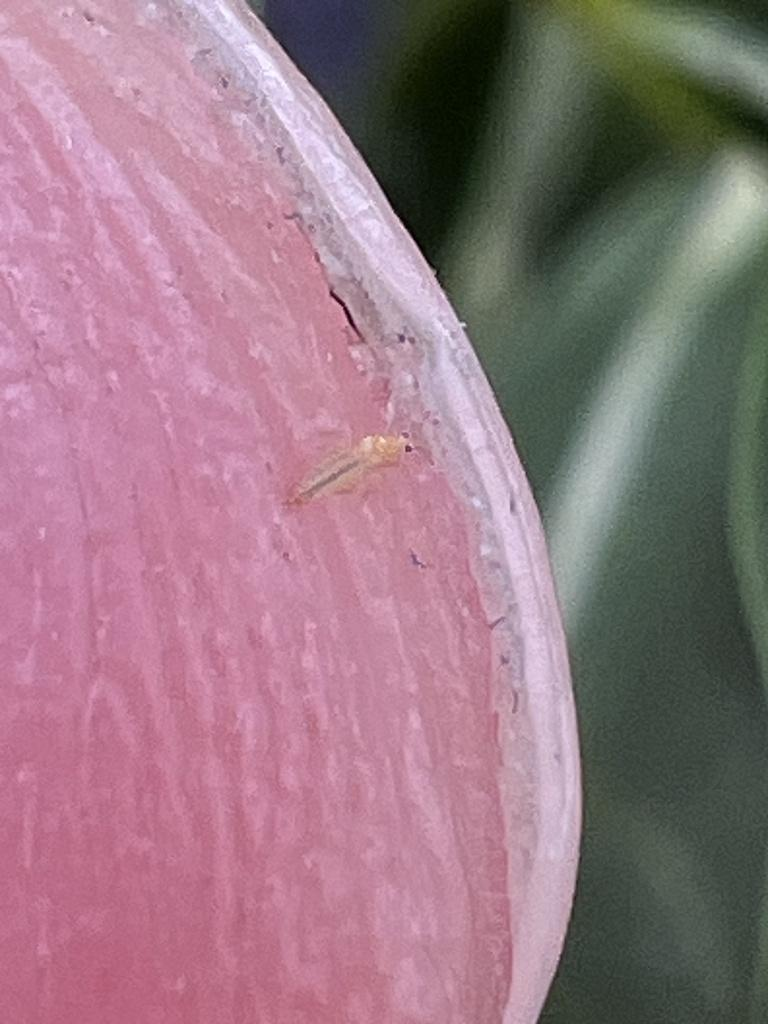tiny_pests: (244, 409, 443, 541)
